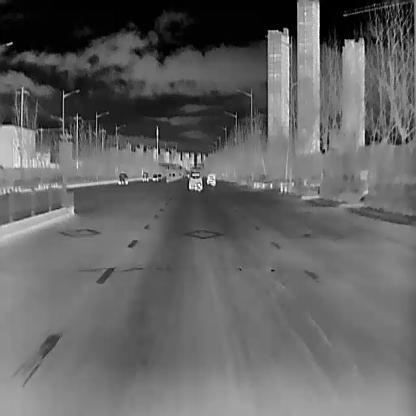car: (188, 170, 202, 189), (116, 172, 128, 184), (206, 171, 215, 185), (141, 171, 148, 181), (151, 172, 158, 181)
